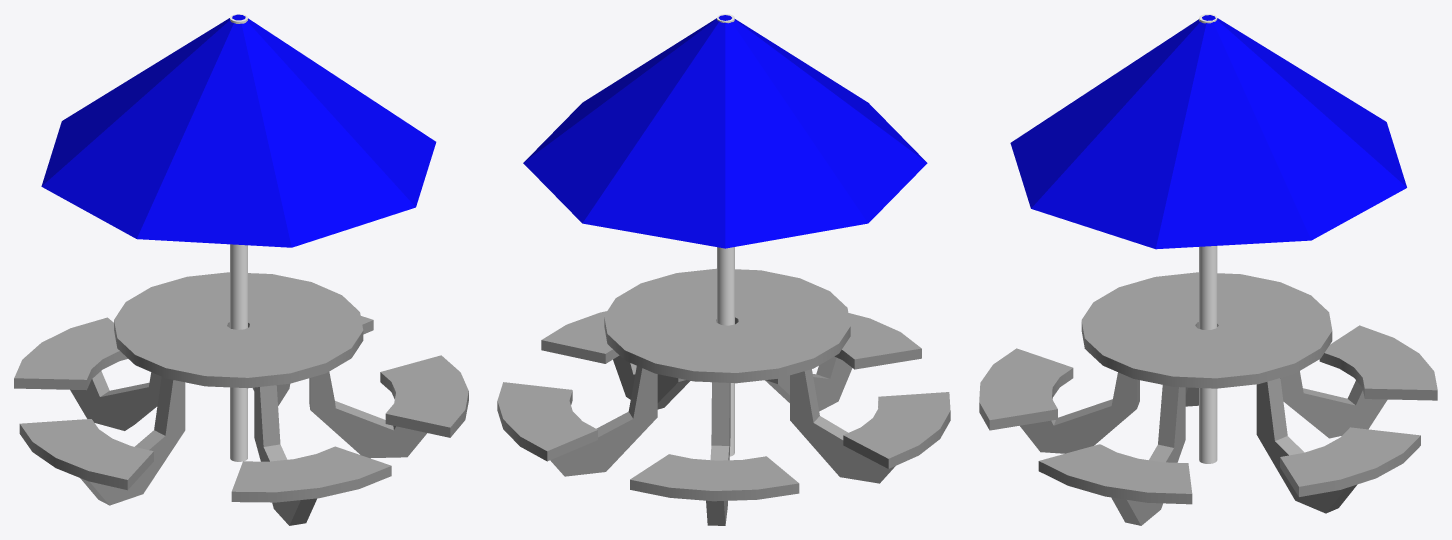
File: Table 01.fbx
3 renders of one model, left to right at view 1: azimuth 30°, elevation 25°; view 2: azimuth 150°, elevation 25°; view 3: azimuth 270°, elevation 25°, orthographic.
Visible parts, largest first — view 1: Model; view 2: Model; view 3: Model.
Boxes of the visible parts, left/top/right/bottom form: Model: left=14, top=14, right=468, bottom=525; Model: left=497, top=14, right=950, bottom=525; Model: left=979, top=14, right=1437, bottom=525.
Bounding box in the file's own units: 2.55 × 2.72 × 2.55.
